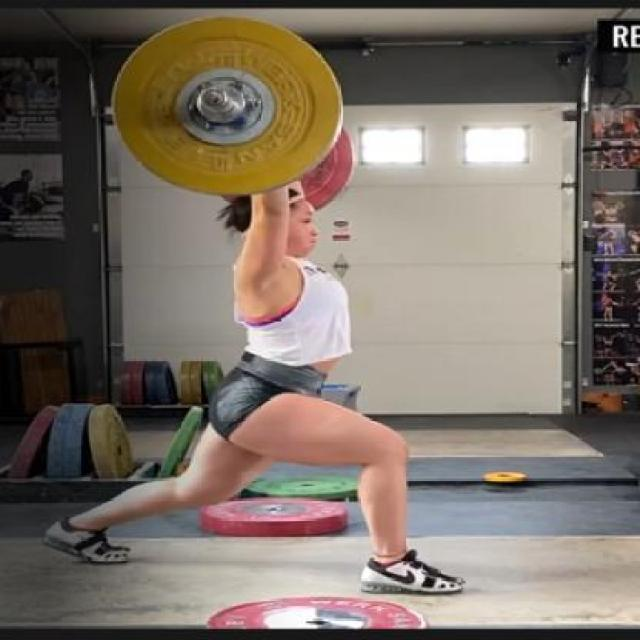Barbell: (199, 86, 232, 111)
